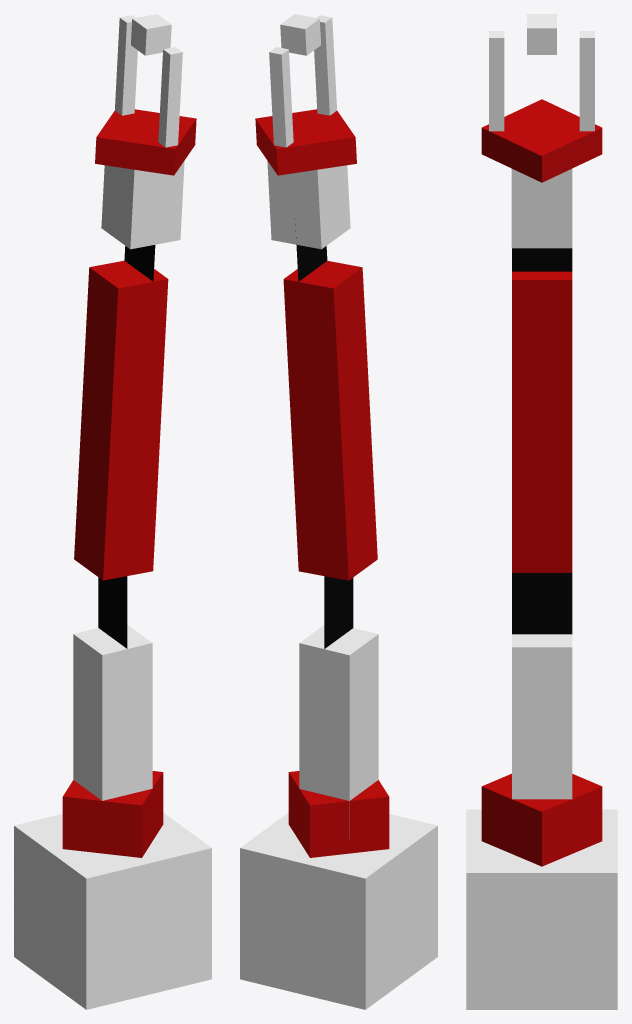
Rendered from seven-dof.backup.dae.
3 renders of one model, left to right at view 1: azimuth 30°, elevation 25°; view 2: azimuth 150°, elevation 25°; view 3: azimuth 270°, elevation 25°, orthographic. The views are drawn at different scales.
Parts seen in each view (by area): view 1: base_link, elbow_pitch_link, shoulder_pitch_link, shoulder_pan_link, wrist_pitch_link, gripper_roll_link, gripper_finger_link1, elbow_roll_link, gripper_finger_link2, grasping_frame, wrist_roll_link; view 2: base_link, elbow_pitch_link, shoulder_pitch_link, shoulder_pan_link, wrist_pitch_link, gripper_roll_link, gripper_finger_link2, elbow_roll_link, gripper_finger_link1, grasping_frame, wrist_roll_link; view 3: base_link, elbow_pitch_link, shoulder_pitch_link, shoulder_pan_link, gripper_roll_link, wrist_pitch_link, elbow_roll_link, gripper_finger_link1, gripper_finger_link2, wrist_roll_link, grasping_frame.
Part boxes in pixels (x1,y1,x2,y2): base_link: (14, 812, 211, 1009); elbow_pitch_link: (74, 260, 168, 580); shoulder_pitch_link: (73, 625, 152, 800); shoulder_pan_link: (62, 771, 163, 857); wrist_pitch_link: (101, 161, 184, 249); gripper_roll_link: (95, 109, 196, 175); gripper_finger_link1: (158, 47, 182, 147); elbow_roll_link: (98, 576, 127, 648); gripper_finger_link2: (115, 15, 137, 115); grasping_frame: (131, 14, 171, 55); wrist_roll_link: (124, 245, 155, 281); base_link: (240, 812, 437, 1009); elbow_pitch_link: (283, 261, 377, 580); shoulder_pitch_link: (299, 625, 378, 838); shoulder_pan_link: (288, 771, 389, 857); wrist_pitch_link: (267, 161, 350, 249); gripper_roll_link: (255, 109, 356, 175); gripper_finger_link2: (269, 47, 293, 147); elbow_roll_link: (324, 576, 353, 648); gripper_finger_link1: (314, 15, 336, 115); grasping_frame: (280, 14, 320, 55); wrist_roll_link: (295, 218, 327, 281); base_link: (466, 809, 617, 1009); elbow_pitch_link: (512, 271, 572, 572); shoulder_pitch_link: (512, 634, 572, 799); shoulder_pan_link: (481, 773, 602, 866); gripper_roll_link: (481, 99, 602, 182); wrist_pitch_link: (511, 169, 572, 248); elbow_roll_link: (512, 573, 572, 634); gripper_finger_link1: (489, 31, 504, 131); gripper_finger_link2: (579, 31, 594, 131); wrist_roll_link: (512, 248, 572, 271); grasping_frame: (527, 14, 556, 54).
Size of what is drawn, in the model's own units: 0.1166 by 0.1 by 0.7141.
